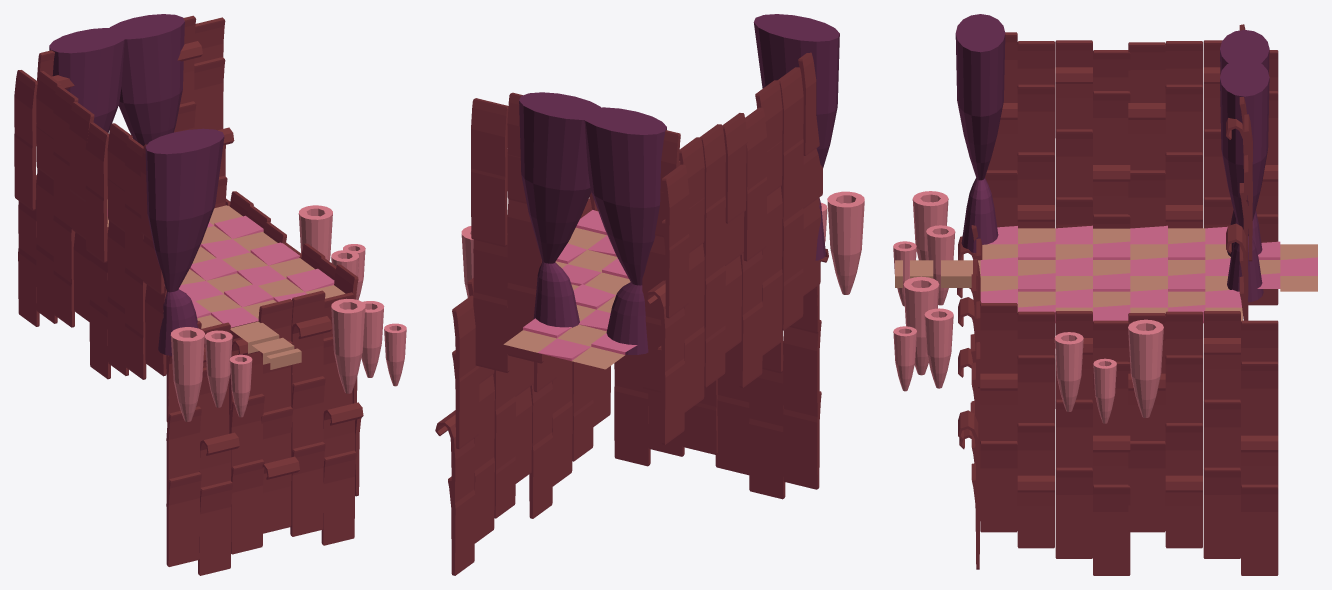
The model's file is NoteBlockPuzzleB1.fbx.
The picture shows the model from 3 angles, left to right: view 1: azimuth 30°, elevation 25°; view 2: azimuth 150°, elevation 25°; view 3: azimuth 270°, elevation 25°; orthographic projection. The views are drawn at different scales.
Parts seen in each view (by area): view 1: B1Environment; view 2: B1Environment; view 3: B1Environment.
Boxes of the visible parts, x1,y1,x2,y2 form: B1Environment: (14,14,406,575); B1Environment: (435,14,864,575); B1Environment: (893,14,1317,575).
Bounding box in the file's own units: 1769 × 2682 × 2267.
